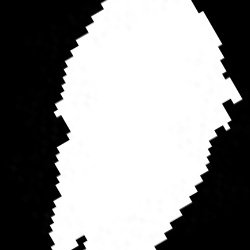spot: (49, 2, 242, 246)
